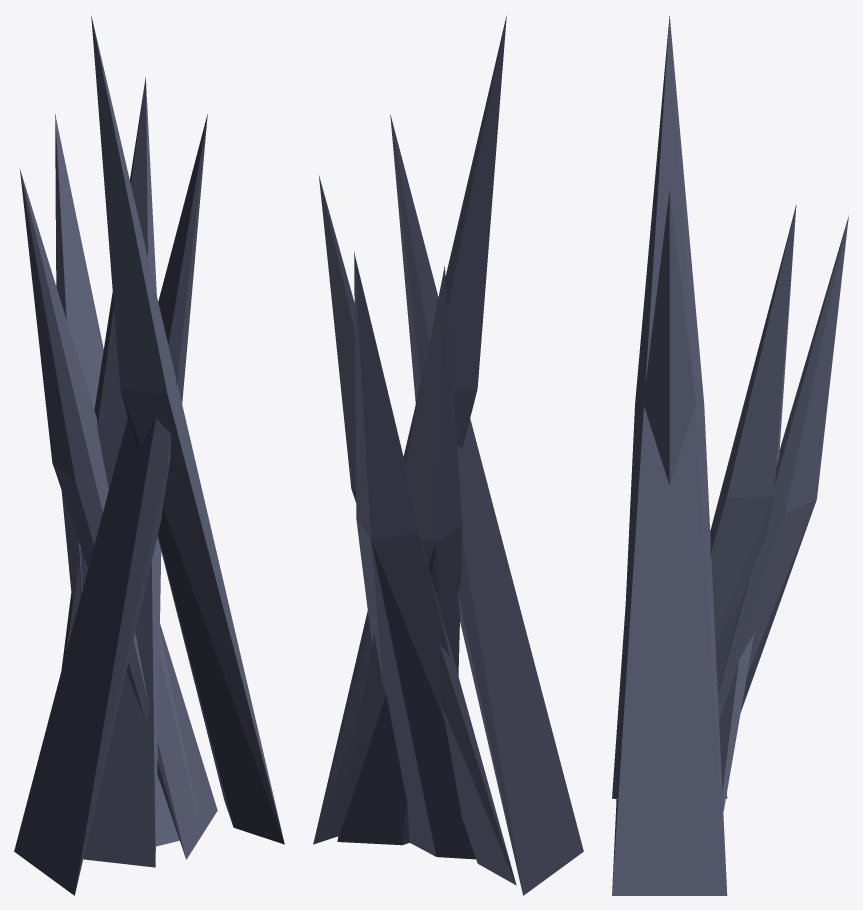
File: TW_VEG_GRASS_FAN_A_LOD0.glb
The picture shows the model from 3 angles, left to right: view 1: azimuth 30°, elevation 25°; view 2: azimuth 150°, elevation 25°; view 3: azimuth 270°, elevation 25°; orthographic projection. The views are drawn at different scales.
Visible parts, largest first — view 1: TW_VEG_GRASS_FAN_A_LOD0; view 2: TW_VEG_GRASS_FAN_A_LOD0; view 3: TW_VEG_GRASS_FAN_A_LOD0.
Part boxes in pixels (x1,y1,x2,y2): TW_VEG_GRASS_FAN_A_LOD0: [14, 16, 284, 895]; TW_VEG_GRASS_FAN_A_LOD0: [313, 16, 583, 895]; TW_VEG_GRASS_FAN_A_LOD0: [612, 16, 848, 895].
Bounding box in the file's own units: 0.18 × 0.6944 × 0.185.
1 material, 1 textured.
